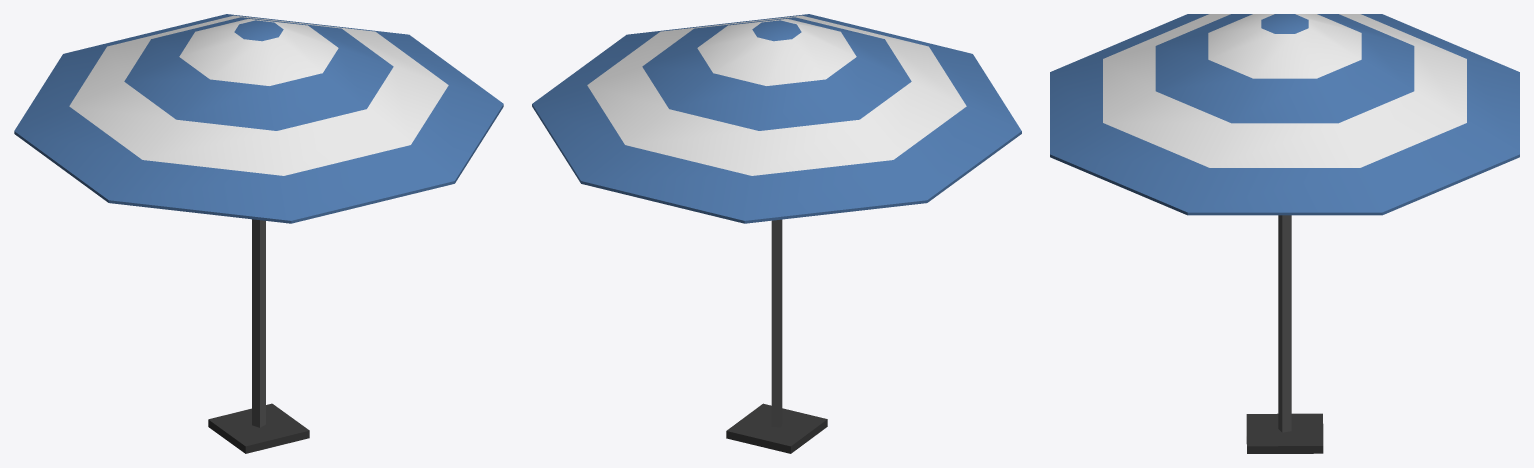
The model's file is SM_Props_Cafe_09.fbx.
The picture shows the model from 3 angles, left to right: view 1: azimuth 30°, elevation 25°; view 2: azimuth 150°, elevation 25°; view 3: azimuth 270°, elevation 25°; orthographic projection. The views are drawn at different scales.
Parts seen in each view (by area): view 1: SM_Props_Cafe_09; view 2: SM_Props_Cafe_09; view 3: SM_Props_Cafe_09.
Boxes of the visible parts, x1=… form: SM_Props_Cafe_09: x1=14, y1=14, x2=503, y2=453; SM_Props_Cafe_09: x1=532, y1=14, x2=1021, y2=453; SM_Props_Cafe_09: x1=1050, y1=14, x2=1519, y2=453.
Size of the model in its own units: 2.87 by 2.79 by 2.87.
